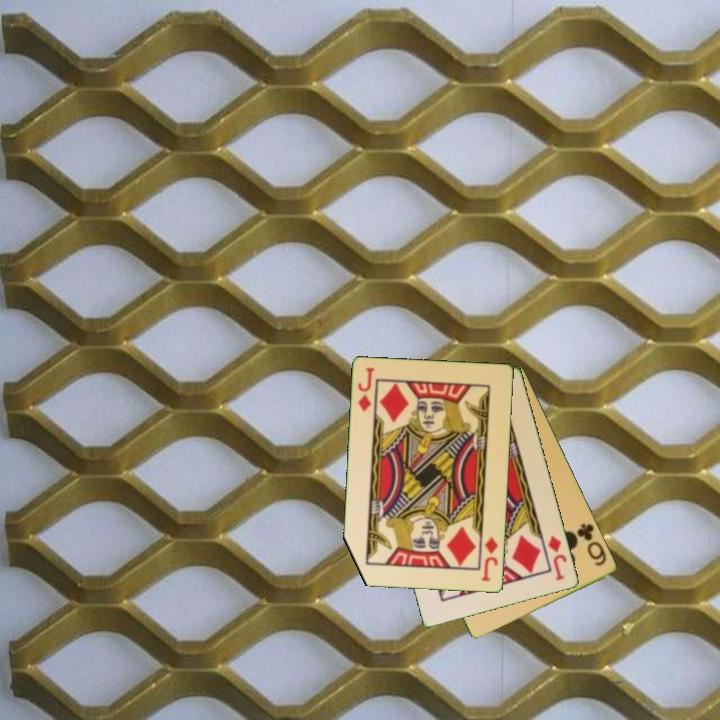6c: (573, 519, 610, 569)
Jd: (545, 532, 570, 583), (355, 364, 377, 415), (479, 534, 501, 584)
